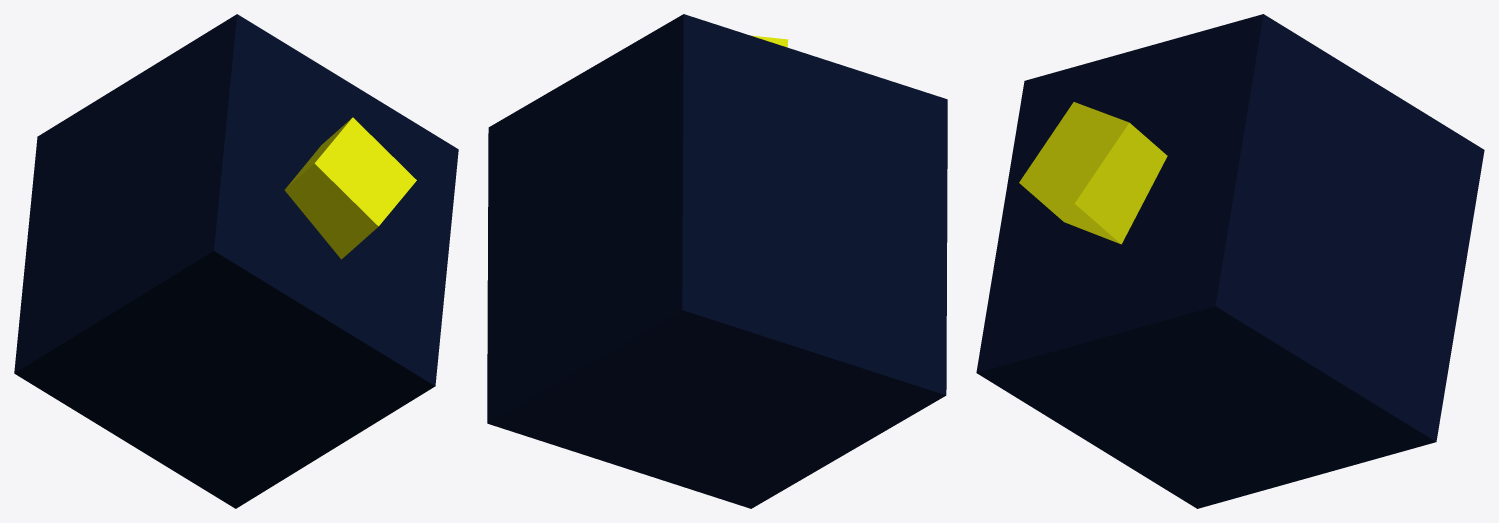
The model's file is abstractCube.gltf.
The picture shows the model from 3 angles, left to right: view 1: azimuth 30°, elevation 25°; view 2: azimuth 150°, elevation 25°; view 3: azimuth 270°, elevation 25°; orthographic projection. The views are drawn at different scales.
Visible parts, largest first — view 1: Cube, Cube.001; view 2: Cube; view 3: Cube, Cube.001.
Boxes of the visible parts, x1,y1,x2,y2 form: Cube: (14,14,458,508); Cube.001: (284,117,416,259); Cube: (487,14,947,508); Cube: (976,14,1484,508); Cube.001: (1019,102,1167,244).
Bounding box in the file's own units: 3.33 × 3.43 × 3.09.
